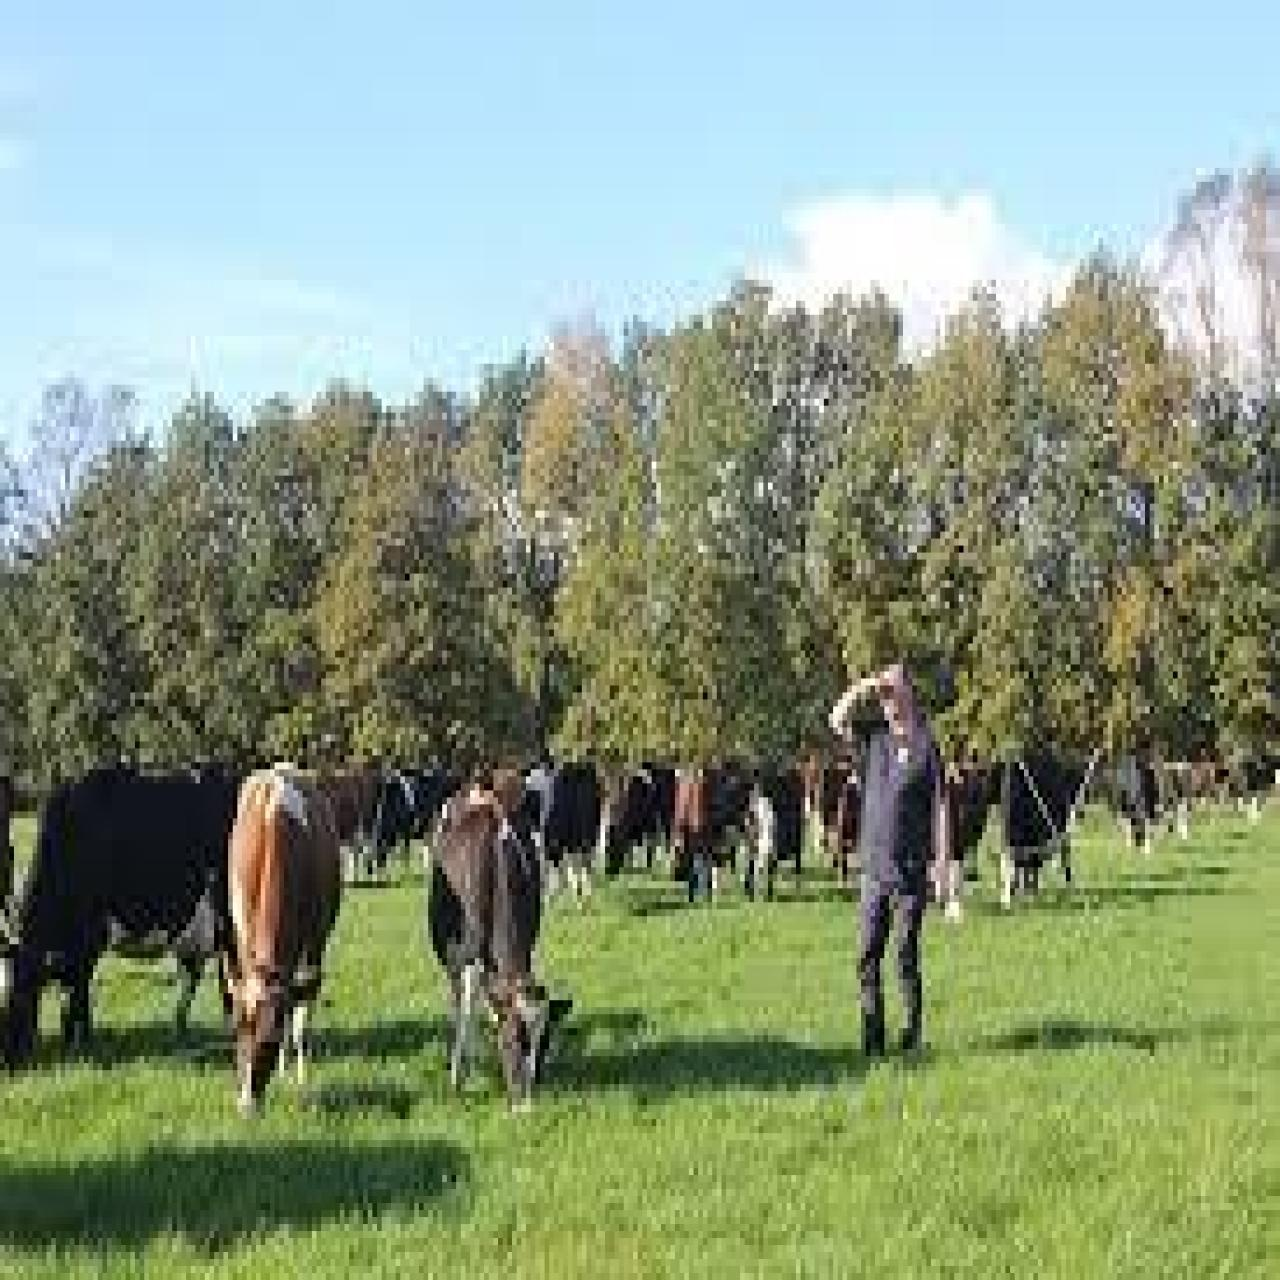cow: (0, 756, 233, 1077), (430, 784, 574, 1119), (229, 760, 345, 1123), (989, 749, 1082, 917), (666, 760, 744, 906), (519, 760, 598, 906), (940, 756, 992, 931), (810, 756, 866, 896), (600, 760, 666, 878), (747, 769, 808, 896), (363, 765, 428, 885), (309, 765, 370, 885)
